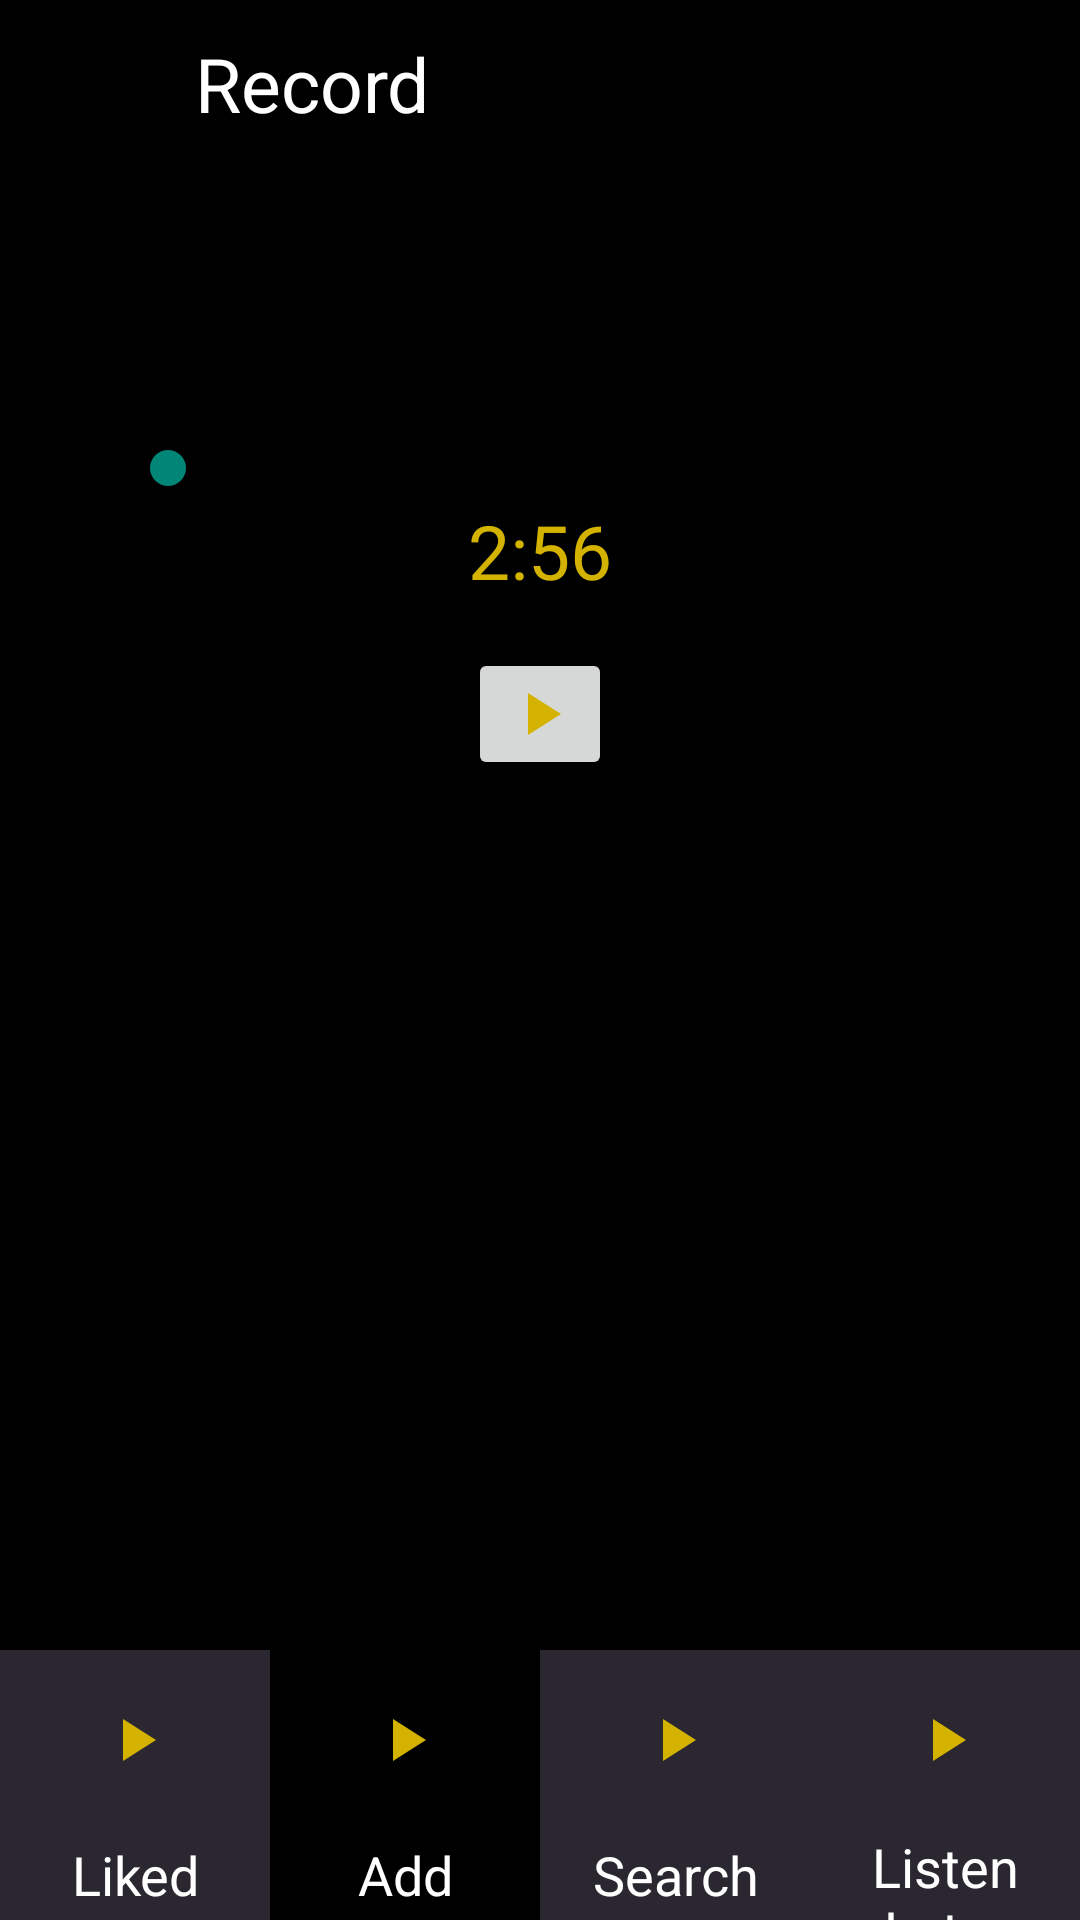

Screen size 1080px×1920px. Icon name, then its center in pixels as [x,y]:
playbtn: [540,714], [139,1740], [409,1740], [679,1740], [949,1740]
